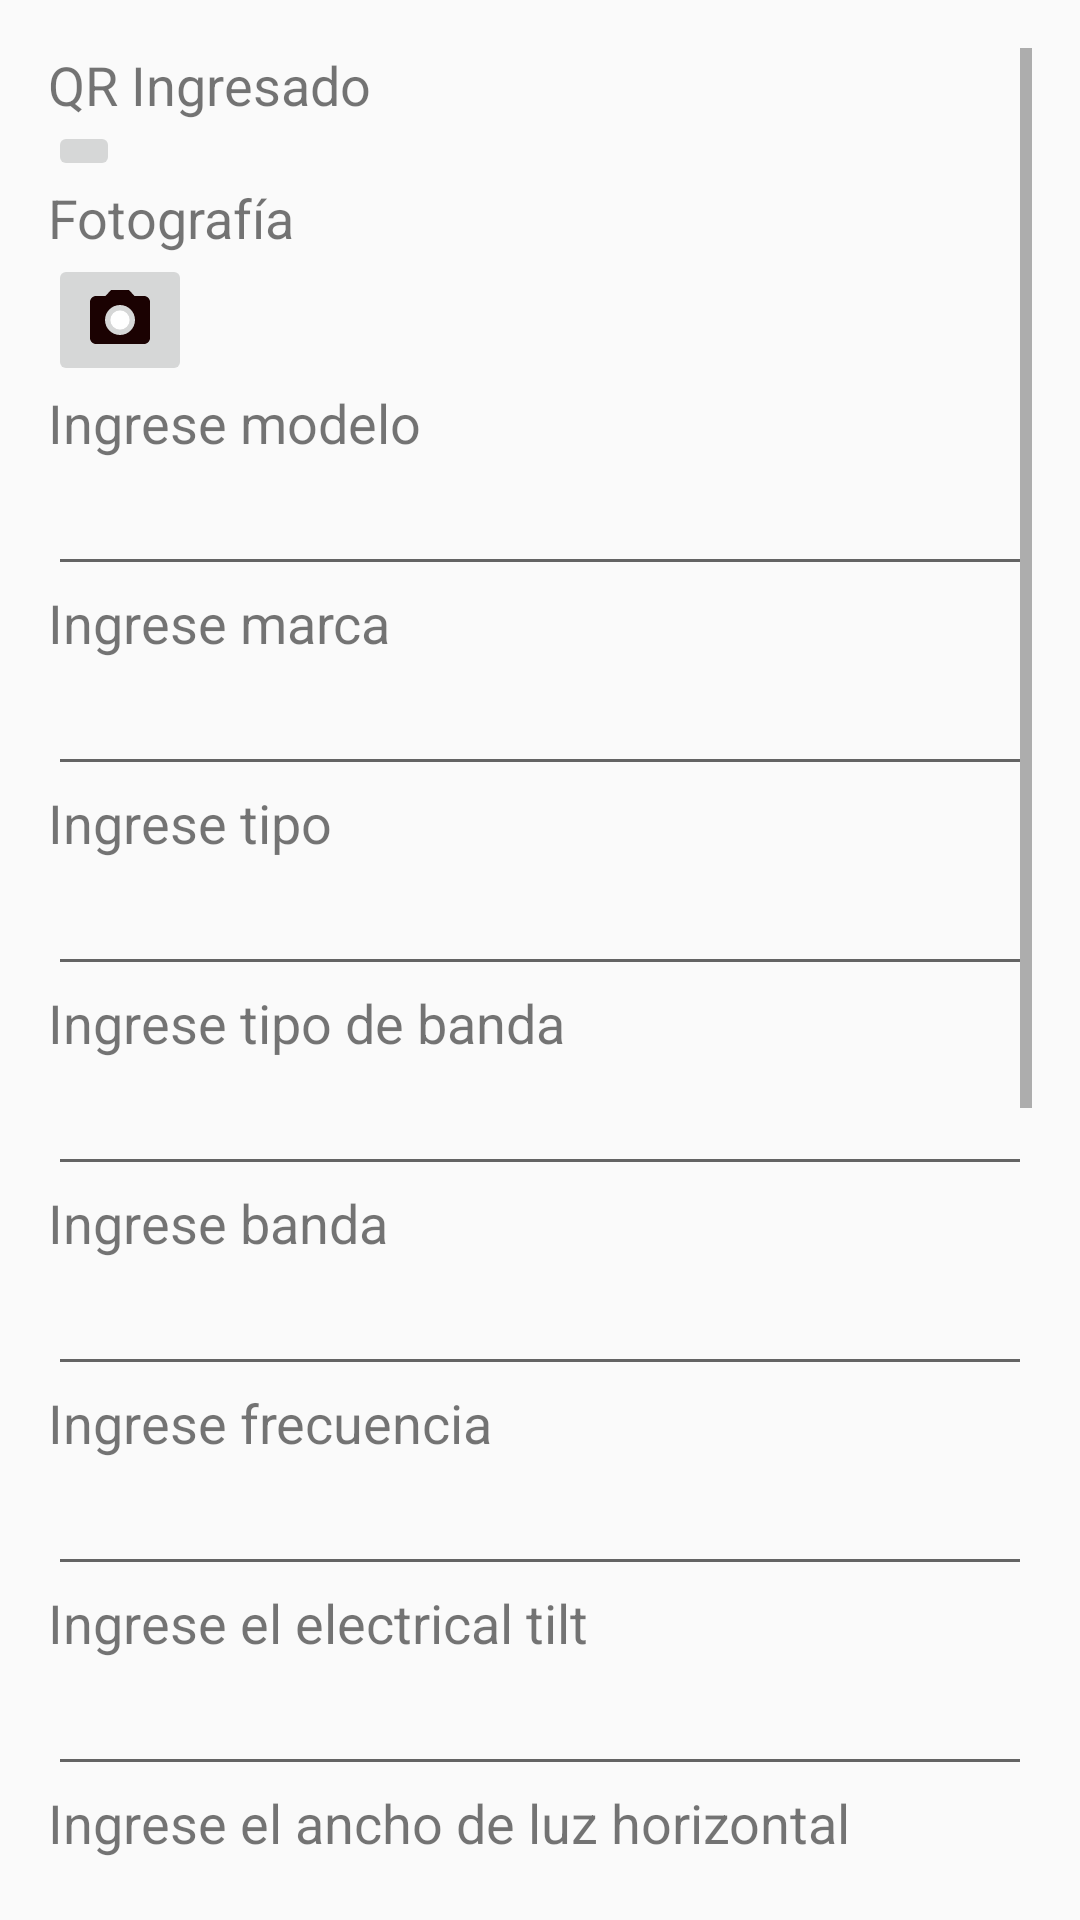

Where icons sit on this 1080 × 1920 app screen, as (x1, y1, x2, y2):
camera: (60, 272, 180, 368)
